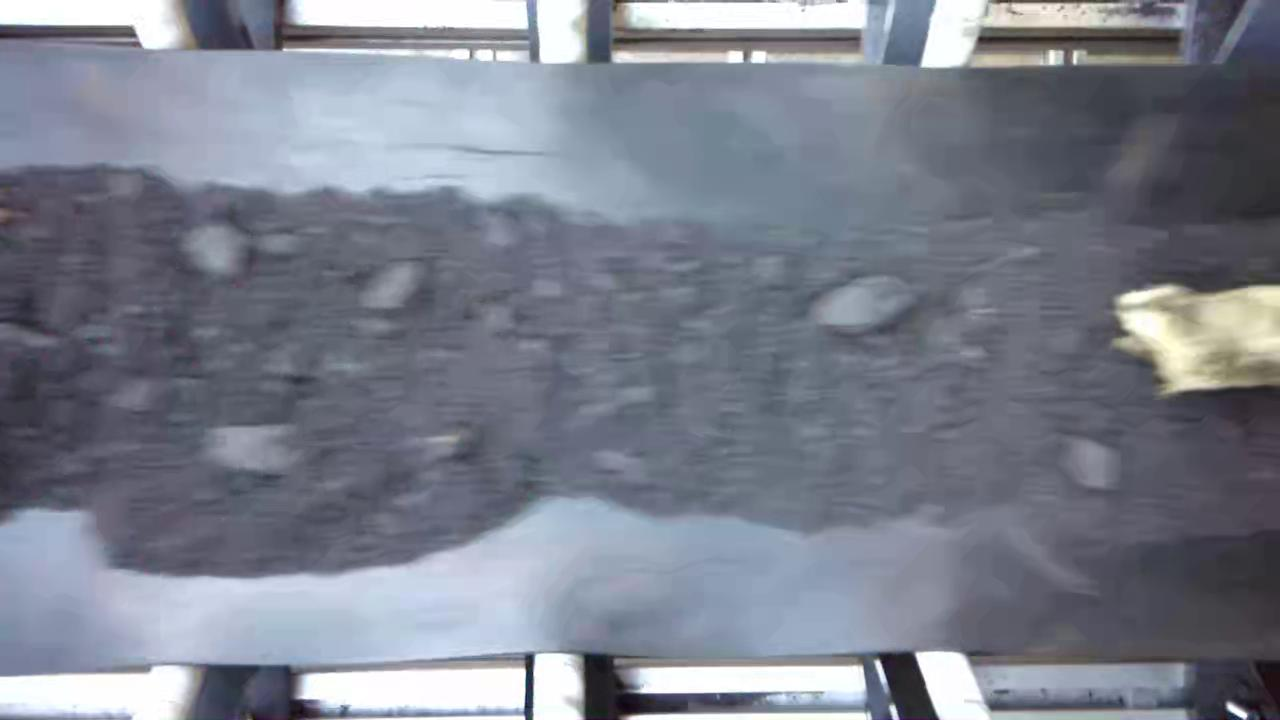conveyor: (13, 76, 1280, 648)
